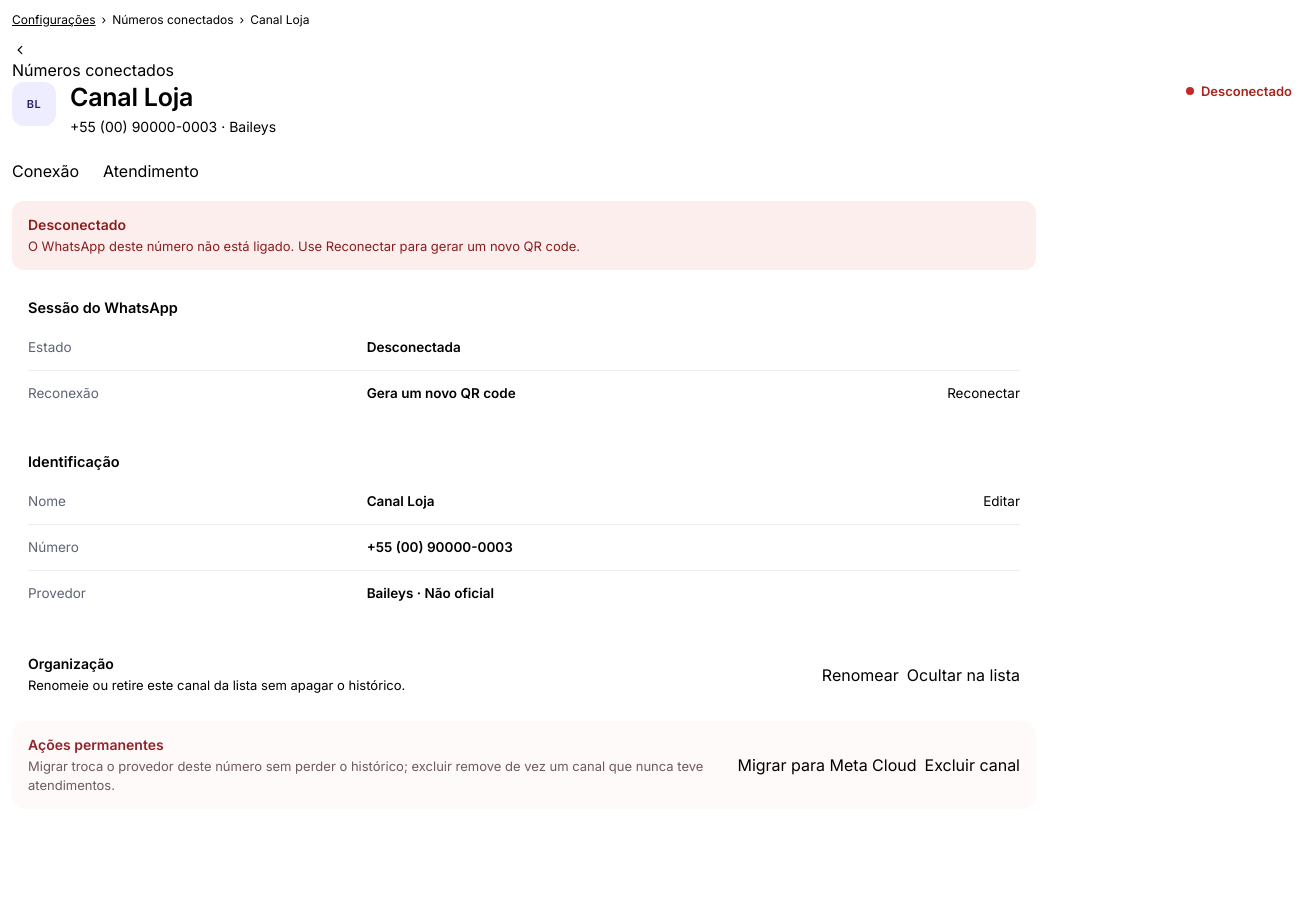
Test: Detalhe do canal: excluir, ocultar e reconectar › reconectar um canal desconectado não pergunta; o erro fica na área de onde saiu
This screenshot has width=1304, height=912.
Click the button "Reconectar": (984, 394) [947,384,1020,403]
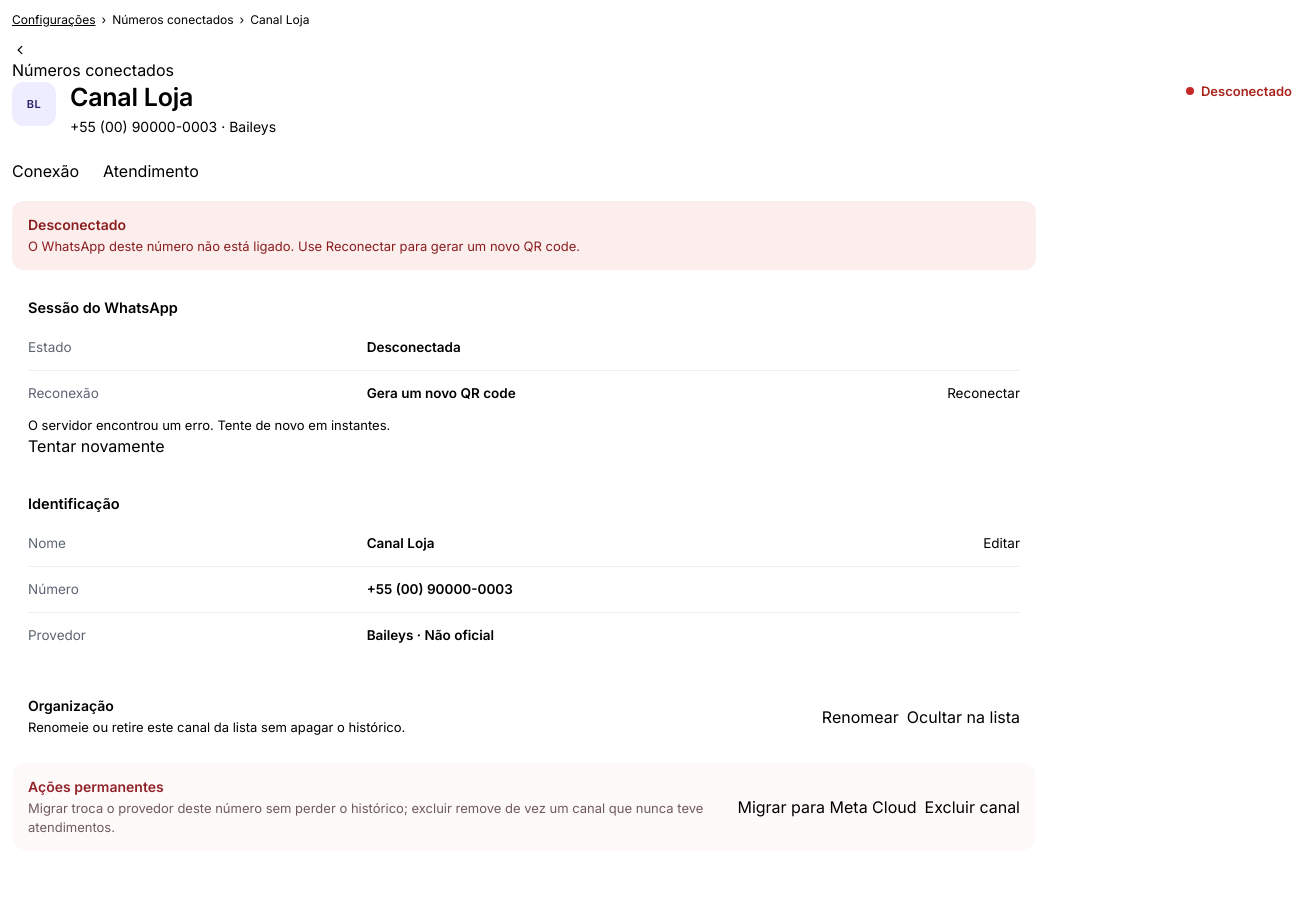
Now the message shows "O servidor encontrou um erro", box [28,417,390,433]
